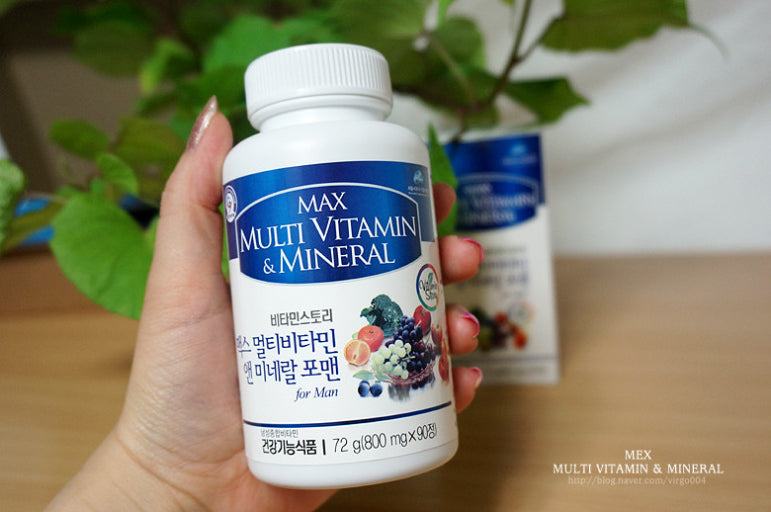supplement_label: (218, 159, 467, 469)
